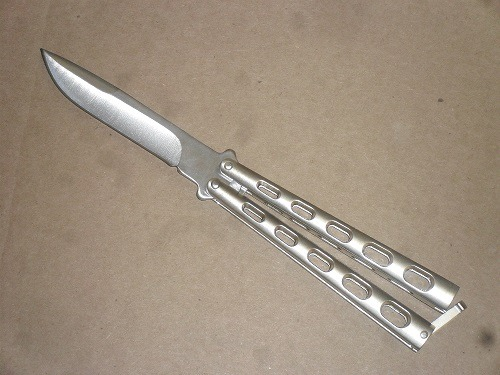knife: (37, 41, 468, 354)
